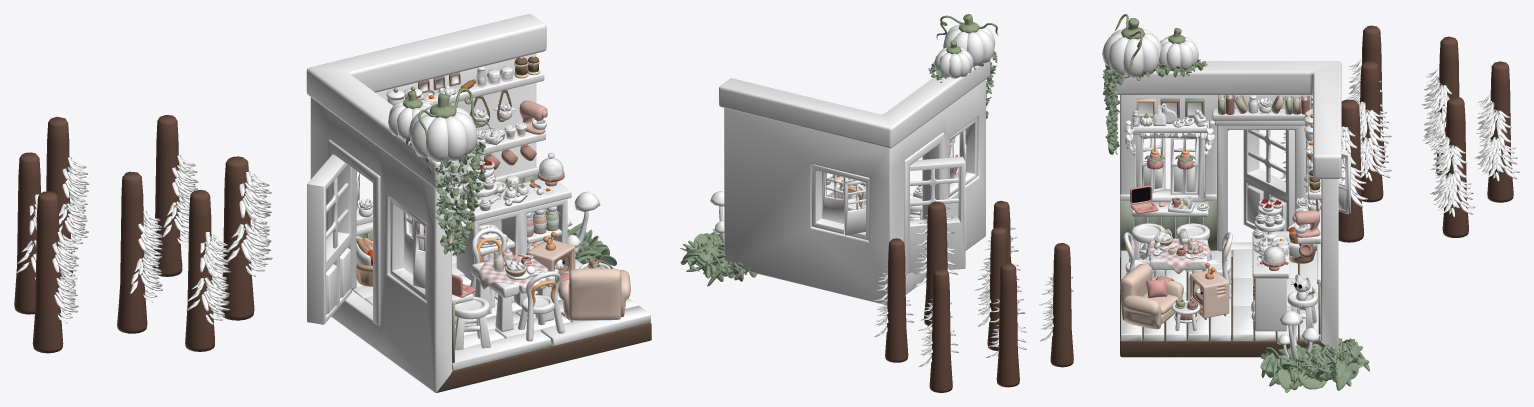
3 renders of one model, left to right at view 1: azimuth 30°, elevation 25°; view 2: azimuth 150°, elevation 25°; view 3: azimuth 270°, elevation 25°, orthographic. The views are drawn at different scales.
Visible parts, largest first — view 1: Walls.001, Walls, Plant.104, Plant.001, Plant, Furniture, Pumpkin.003, Basket.002, Glass.001, Tv, Pumpkin, Plane.445 (+5 smaller); view 2: Walls, Walls.001, Plant.104, Plant.001, Plant, Pumpkin.003, Pumpkin.002, Pumpkin; view 3: Walls.001, Walls, Plant.104, Plant.001, Plant, Furniture, Pumpkin.003, Walls.003, Tv, Pumpkin.002, Glass.001, Plane.445 (+13 smaller).
Part boxes in pixels (box(x1,y1,x2,y2)): Walls.001: box(306, 14, 650, 370); Walls: box(310, 53, 651, 392); Plant.104: box(14, 115, 254, 353); Plant.001: box(16, 155, 272, 324); Plant: box(406, 134, 616, 268); Furniture: box(424, 226, 630, 320); Pumpkin.003: box(408, 105, 477, 161); Basket.002: box(356, 66, 529, 286); Glass.001: box(452, 72, 563, 271); Tv: box(526, 231, 575, 291); Pumpkin: box(403, 88, 491, 136); Plane.445: box(478, 255, 548, 290); Walls: box(724, 79, 985, 304); Walls.001: box(719, 60, 990, 275); Plant.104: box(885, 200, 1073, 392); Plant.001: box(873, 207, 1073, 366); Plant: box(680, 51, 997, 286); Pumpkin.003: box(943, 23, 995, 66); Pumpkin.002: box(934, 47, 973, 78); Pumpkin: box(936, 14, 998, 53); Walls.001: box(1114, 61, 1350, 341); Walls: box(1120, 95, 1338, 357); Plant.104: box(1338, 25, 1513, 242); Plant.001: box(1280, 59, 1519, 216); Plant: box(1102, 59, 1369, 392); Furniture: box(1120, 153, 1193, 329); Pumpkin.003: box(1102, 29, 1161, 77); Walls.003: box(1120, 200, 1321, 334); Tv: box(1189, 263, 1229, 319); Pumpkin.002: box(1140, 36, 1198, 126); Glass.001: box(1131, 102, 1312, 264); Plane.445: box(1145, 238, 1211, 273).
Size of what is drawn, in the model's own units: 6.1 by 3.35 by 4.73.
Materials: 94 (4 with a texture image).
